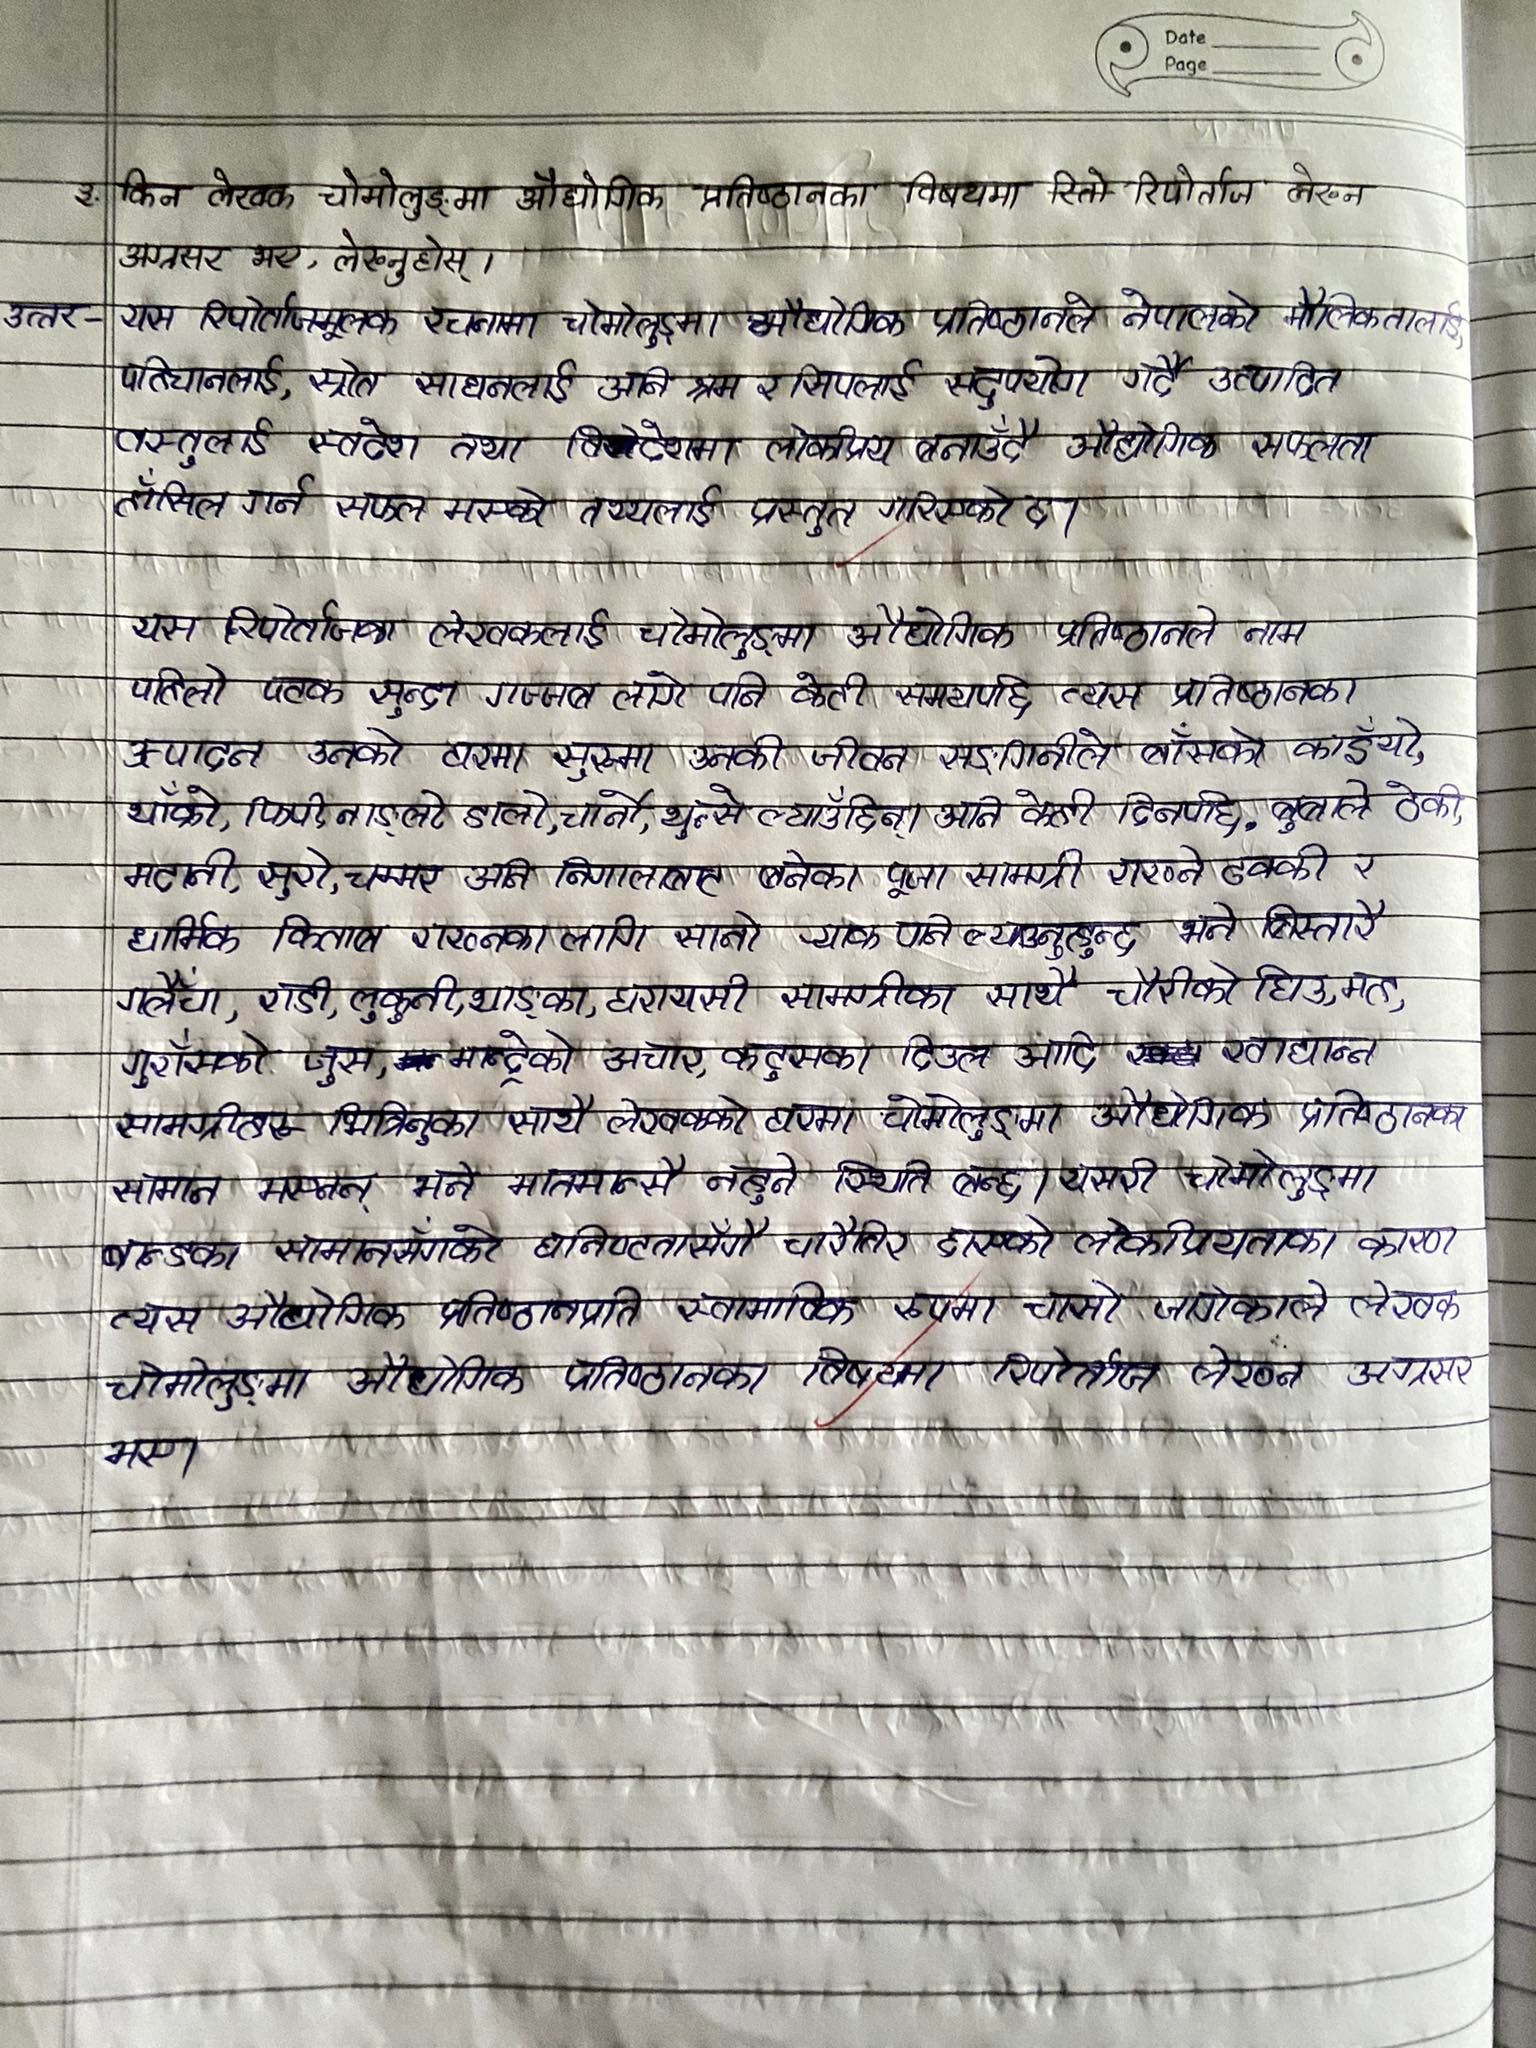text: (1071, 1213, 1342, 1268), (102, 1355, 316, 1414), (1281, 282, 1468, 348), (271, 1216, 510, 1268), (1296, 1080, 1471, 1147), (1175, 1148, 1379, 1205), (671, 1274, 860, 1334), (240, 789, 457, 840), (987, 1340, 1163, 1403), (528, 1218, 771, 1263), (558, 1351, 774, 1401), (1084, 1084, 1281, 1138), (878, 1090, 1066, 1147), (315, 164, 497, 223), (328, 223, 482, 290), (436, 1285, 652, 1334), (936, 348, 1100, 411), (219, 600, 408, 655), (937, 722, 1120, 779), (632, 606, 818, 661), (1154, 1276, 1333, 1332), (342, 1351, 529, 1405), (198, 292, 403, 340), (576, 477, 731, 540), (783, 966, 960, 1021), (115, 1029, 278, 1089), (507, 1156, 694, 1208), (110, 414, 284, 469), (1046, 601, 1220, 656), (837, 603, 1021, 655), (800, 1342, 954, 1403), (1163, 669, 1365, 714), (757, 785, 918, 842), (737, 297, 912, 348), (224, 1288, 416, 1335), (694, 169, 878, 218), (552, 851, 729, 901), (428, 608, 610, 656), (115, 1098, 310, 1143), (561, 297, 721, 352), (929, 290, 1100, 340), (408, 360, 582, 408), (565, 419, 739, 468), (513, 164, 666, 219), (720, 1034, 874, 1087), (115, 353, 284, 402), (1112, 282, 1257, 339), (1213, 1022, 1383, 1071), (962, 914, 1142, 959), (792, 348, 925, 410), (1131, 160, 1257, 223), (1189, 1338, 1317, 1400), (758, 418, 899, 472), (1344, 1272, 1476, 1330), (912, 414, 1047, 471), (607, 1090, 753, 1142), (102, 1230, 247, 1282), (1065, 418, 1225, 464), (1099, 963, 1242, 1014), (892, 669, 1033, 721), (447, 1029, 578, 1084), (1262, 777, 1381, 837), (1294, 719, 1431, 771), (324, 1100, 486, 1143), (350, 968, 465, 1029), (118, 910, 248, 963), (1018, 1277, 1137, 1335), (936, 1214, 1063, 1268), (605, 976, 752, 1021), (111, 469, 227, 526), (1134, 727, 1279, 772), (121, 729, 265, 774), (1204, 358, 1352, 402), (298, 414, 428, 464), (879, 484, 1016, 531), (781, 1218, 908, 1268), (408, 918, 553, 961), (1121, 787, 1244, 837), (1260, 901, 1396, 947), (1246, 421, 1376, 468), (298, 722, 408, 777), (119, 848, 239, 898), (755, 845, 860, 901), (1341, 1351, 1488, 1392), (445, 484, 560, 535), (897, 169, 1028, 214), (419, 302, 550, 347), (252, 1168, 382, 1213), (549, 734, 666, 784), (966, 850, 1087, 898), (707, 1148, 802, 1209), (1220, 843, 1336, 893), (271, 913, 390, 961), (737, 489, 862, 534), (666, 910, 771, 963), (116, 971, 227, 1021), (111, 1166, 229, 1213), (468, 976, 587, 1021), (331, 484, 437, 534), (440, 421, 537, 476), (121, 234, 237, 279), (124, 780, 223, 834), (121, 661, 232, 708), (202, 164, 302, 216), (1283, 160, 1371, 218), (1108, 840, 1205, 893), (807, 732, 916, 779), (1355, 1218, 1465, 1263), (983, 968, 1084, 1016), (478, 674, 599, 714), (344, 855, 447, 901), (658, 787, 750, 839), (510, 1089, 594, 1145), (787, 914, 892, 959), (892, 1288, 1000, 1332), (829, 1155, 937, 1198), (560, 784, 650, 835), (305, 352, 392, 405), (366, 672, 465, 719), (599, 1037, 707, 1079), (255, 842, 331, 901), (591, 358, 674, 411), (763, 1095, 858, 1142), (106, 1297, 205, 1342), (687, 734, 789, 777), (900, 1029, 994, 1076), (791, 668, 878, 718), (1118, 347, 1191, 406), (1015, 784, 1100, 834), (1055, 1156, 1160, 1197), (608, 669, 695, 718), (1054, 672, 1146, 718), (560, 913, 652, 958), (1010, 1032, 1105, 1076), (434, 735, 531, 777), (255, 976, 340, 1022), (1250, 959, 1329, 1009), (1386, 777, 1463, 827), (402, 1163, 490, 1206), (3, 290, 86, 337), (239, 472, 318, 521), (116, 164, 190, 214), (952, 1155, 1031, 1201), (465, 792, 552, 834), (934, 789, 1007, 839), (1171, 901, 1249, 948), (300, 1040, 379, 1085), (123, 603, 200, 648), (253, 672, 345, 710), (874, 855, 952, 898), (708, 669, 776, 718), (102, 1437, 182, 1477), (463, 855, 537, 897), (1233, 613, 1313, 650), (118, 298, 186, 340), (1341, 963, 1405, 1006), (899, 906, 954, 956), (691, 364, 742, 410), (247, 239, 308, 274), (1021, 481, 1058, 539), (752, 361, 786, 414), (71, 168, 102, 216), (1346, 843, 1379, 887)
